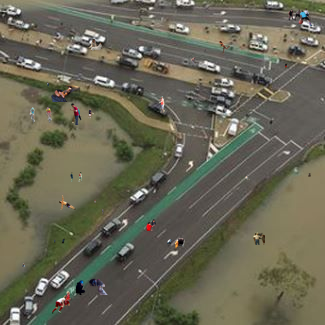Human: (76, 278, 108, 295), (70, 103, 94, 125), (50, 85, 80, 102), (51, 291, 72, 314), (288, 8, 313, 26), (29, 107, 52, 124), (239, 232, 265, 245), (59, 195, 76, 210), (167, 238, 185, 251), (219, 41, 236, 54), (86, 39, 103, 51), (70, 172, 83, 182), (146, 219, 156, 232), (158, 96, 165, 113), (54, 238, 65, 245), (244, 176, 252, 185), (191, 57, 196, 65), (22, 263, 25, 267), (308, 173, 311, 177), (102, 209, 104, 215), (285, 63, 287, 69), (242, 68, 244, 74), (304, 143, 306, 148), (204, 49, 206, 54), (47, 82, 49, 87), (94, 199, 96, 204)
